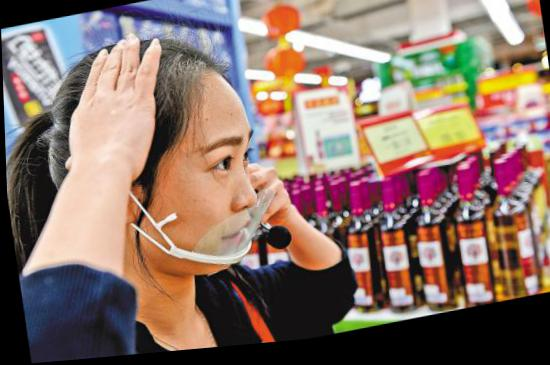WRONG: (113, 124, 273, 291)
